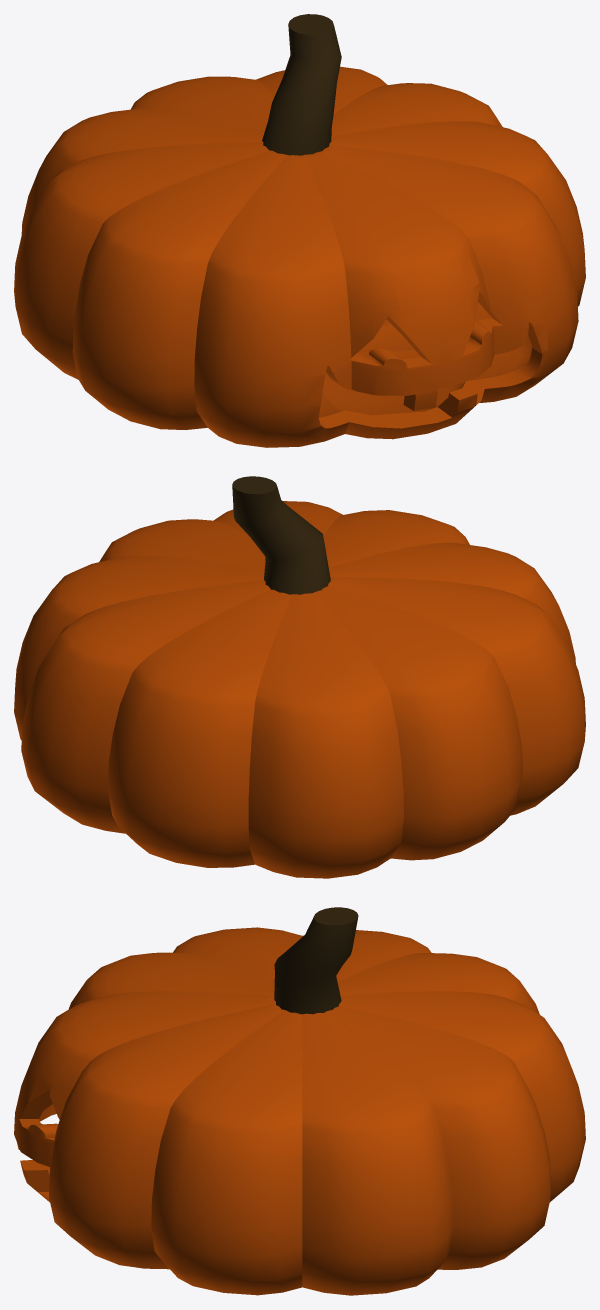
File: Jack the Lantern.FBX
The picture shows the model from 3 angles, top to bottom: view 1: azimuth 30°, elevation 25°; view 2: azimuth 150°, elevation 25°; view 3: azimuth 270°, elevation 25°; orthographic projection.
Visible parts, largest first — view 1: Loft001, Cylinder001; view 2: Loft001, Cylinder001; view 3: Loft001, Cylinder001.
Part boxes in pixels (x1,y1,x2,y2): Loft001: (14, 66, 585, 447); Cylinder001: (262, 14, 341, 155); Loft001: (14, 501, 585, 878); Cylinder001: (232, 476, 330, 594); Loft001: (14, 927, 585, 1295); Cylinder001: (274, 907, 358, 1014).
Size of the model in its own units: 200 by 128 by 206.
